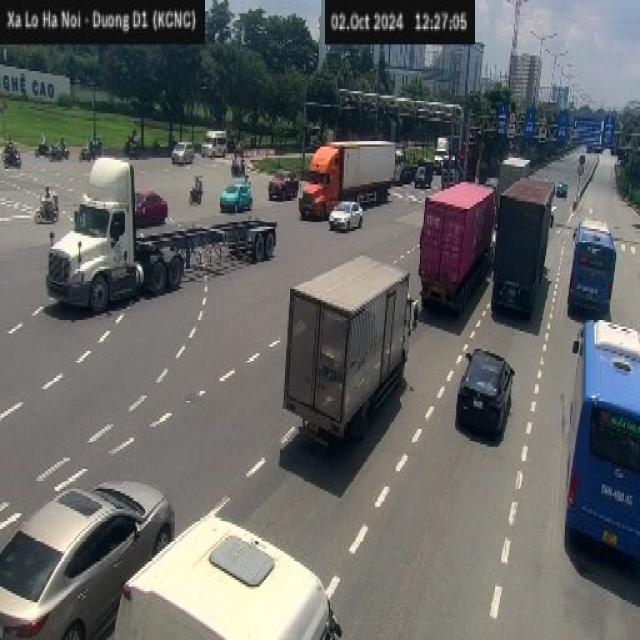bus: (564, 318, 638, 564), (571, 206, 617, 322)
car: (0, 478, 174, 638), (455, 347, 515, 438), (134, 189, 168, 224), (328, 198, 362, 231), (170, 140, 194, 164)
container-truck: (45, 156, 277, 314), (134, 513, 350, 640), (417, 180, 495, 316), (297, 138, 395, 220)
truck: (281, 253, 419, 451), (490, 175, 555, 318)
